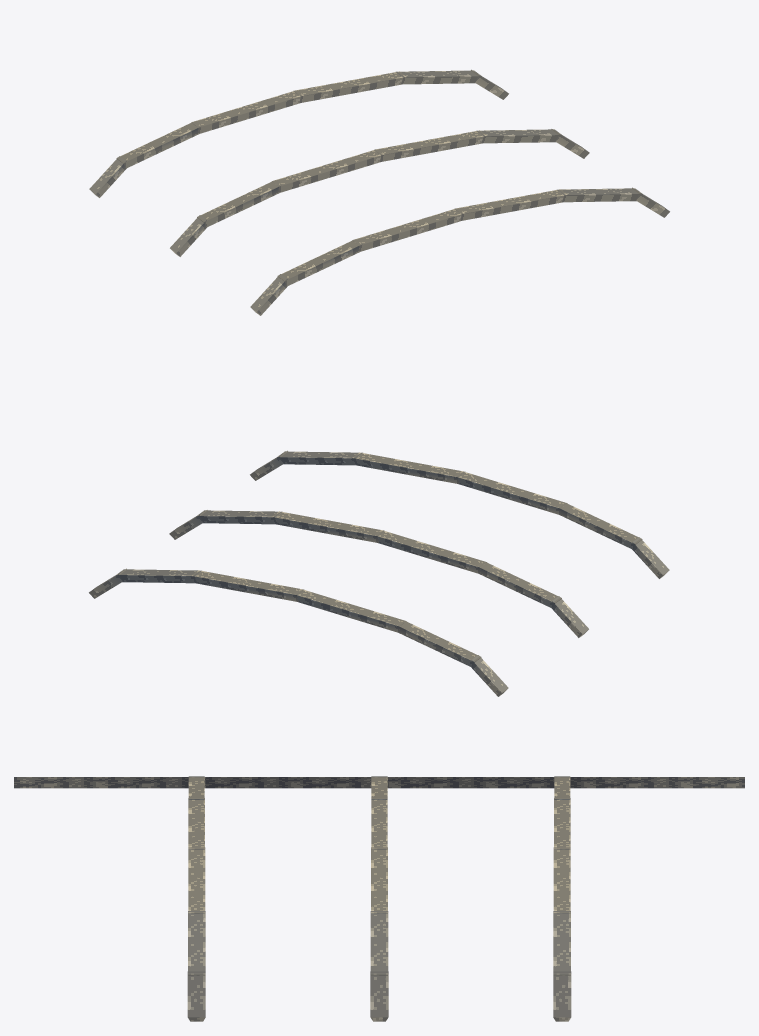
Rendered from cst.ceiling__vault.glb.
3 renders of one model, top to bottom at view 1: azimuth 30°, elevation 25°; view 2: azimuth 150°, elevation 25°; view 3: azimuth 270°, elevation 25°, orthographic. The views are drawn at different scales.
Visible parts, largest first — view 1: kit_ribs; view 2: kit_ribs; view 3: kit_ribs, kit_shell_ceiling.
Boxes of the visible parts, box(x1,y1,x2,y2) form: kit_ribs: box(89, 69, 669, 315); kit_ribs: box(89, 450, 669, 696); kit_ribs: box(187, 776, 571, 1021); kit_shell_ceiling: box(14, 777, 744, 788).
Bounding box in the file's own units: 11.1 × 1.39 × 15.
Materials: 2 (2 with a texture image).
